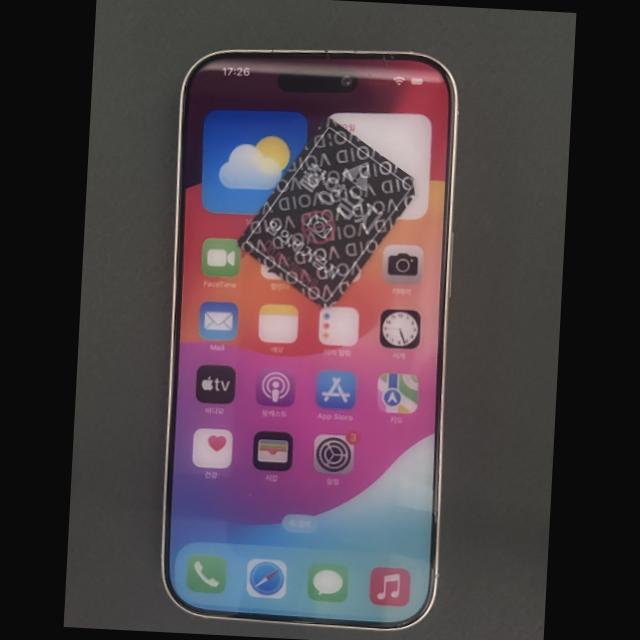phone: (164, 52, 456, 628)
sticker: (236, 117, 415, 311)
